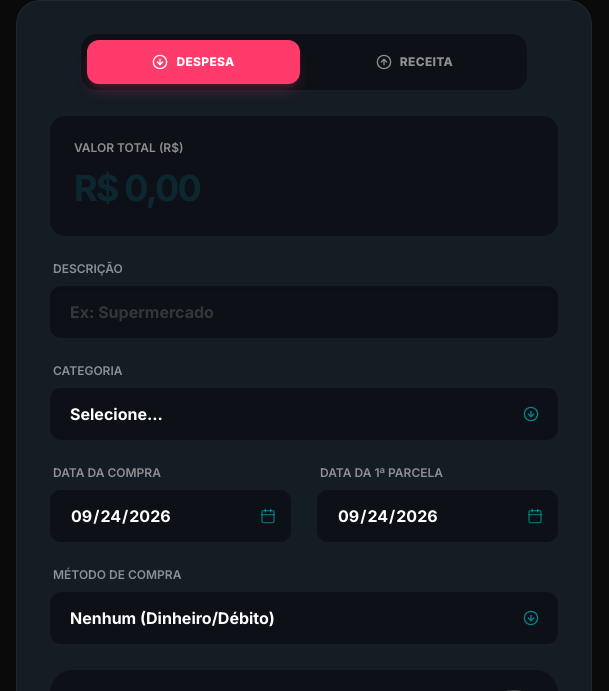
TransactionForm › renders form and toggles type
The width and height of the screenshot is (609, 691).
Expected: the button "Despesa" is shown, [87,40,300,84]
Expected: the field with placeholder "Ex: Supermercado" is shown, [49,285,559,339]
What coordinates should you click on to do the following:
click the button "Receita"
I would click on:
 (414, 62)
Its box is [308,40,521,84].
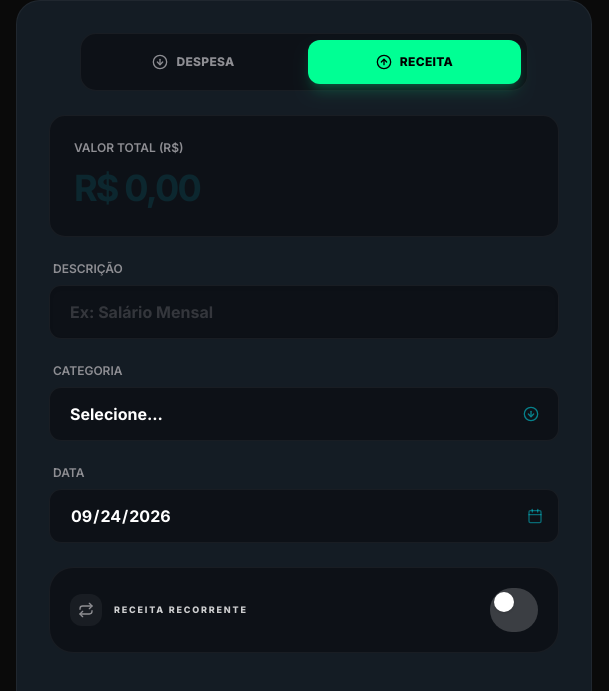
Expected: the field with placeholder "Ex: Salário Mensal" is shown, [49,285,559,339]
